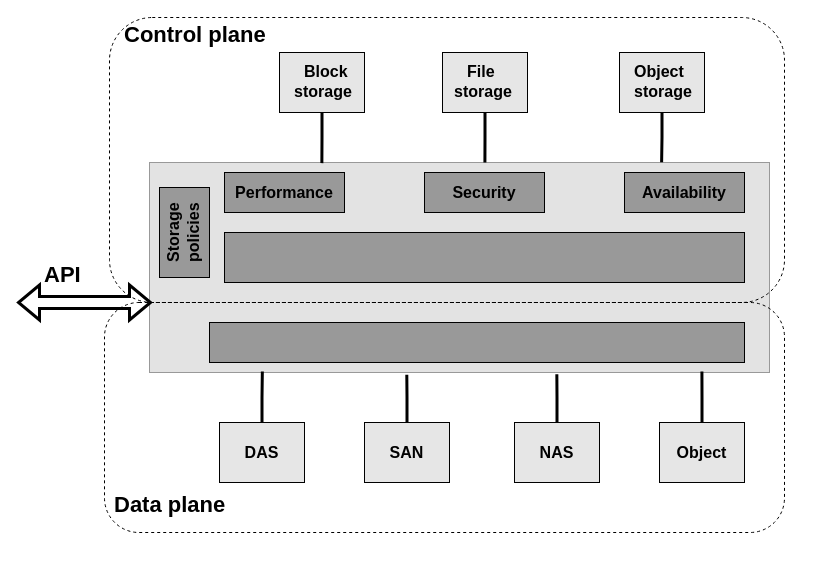
The diagram is 837 pixels wide and 580 high, and some of its shapes have lost their labels. Here are the shapes that lost their labels. From the top down, the centre of each, then its label:
At point 484,257: "Data services".
At point 476,342: "Shared storage pool".
